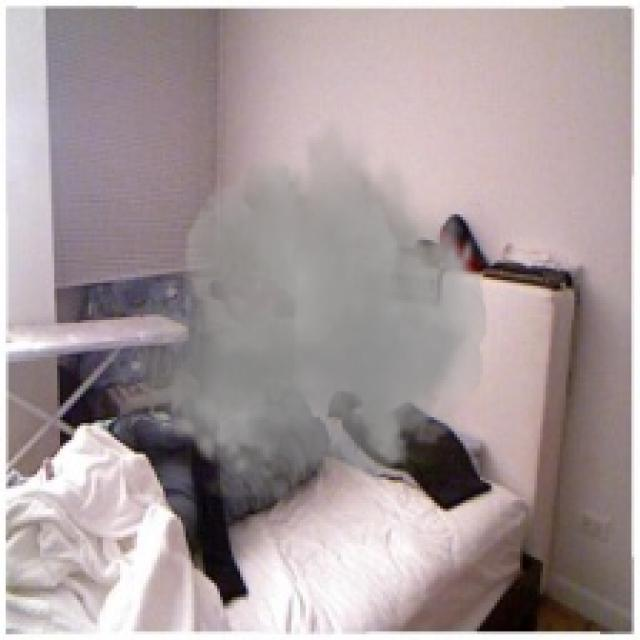smoke: (109, 109, 497, 517)
